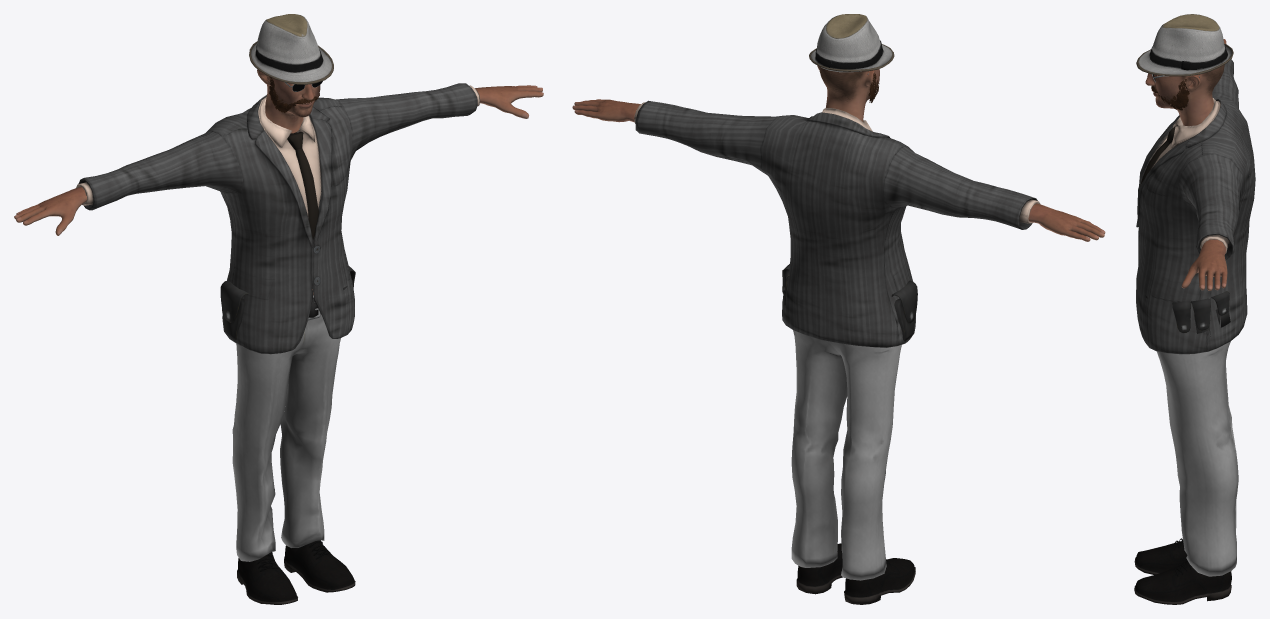
File: chelovek.obj
3 views of the same model, side by side, from view 1: azimuth 30°, elevation 25°; view 2: azimuth 150°, elevation 25°; view 3: azimuth 270°, elevation 25° (orthographic).
Parts seen in each view (by area): view 1: Tops, Bottoms, Body, Shoes, Hats; view 2: Tops, Bottoms, Body, Hats, Shoes; view 3: Tops, Bottoms, Hats, Shoes, Body, Beards.
Boxes of the visible parts, x1,y1,x2,y2 form: Tops: [76, 83, 480, 354]; Bottoms: [220, 266, 355, 561]; Body: [14, 69, 543, 294]; Shoes: [237, 540, 355, 604]; Hats: [249, 14, 333, 84]; Tops: [634, 100, 1040, 347]; Bottoms: [782, 264, 917, 580]; Body: [572, 65, 1105, 241]; Hats: [809, 14, 894, 72]; Shoes: [796, 543, 915, 604]; Tops: [1136, 59, 1255, 354]; Bottoms: [1145, 291, 1238, 576]; Hats: [1136, 14, 1233, 76]; Shoes: [1134, 538, 1231, 604]; Body: [1145, 39, 1227, 290]; Beards: [1161, 79, 1189, 110].
Bounding box in the file's own units: 174 × 177 × 34.74.
Materials: 1 (1 with a texture image).
